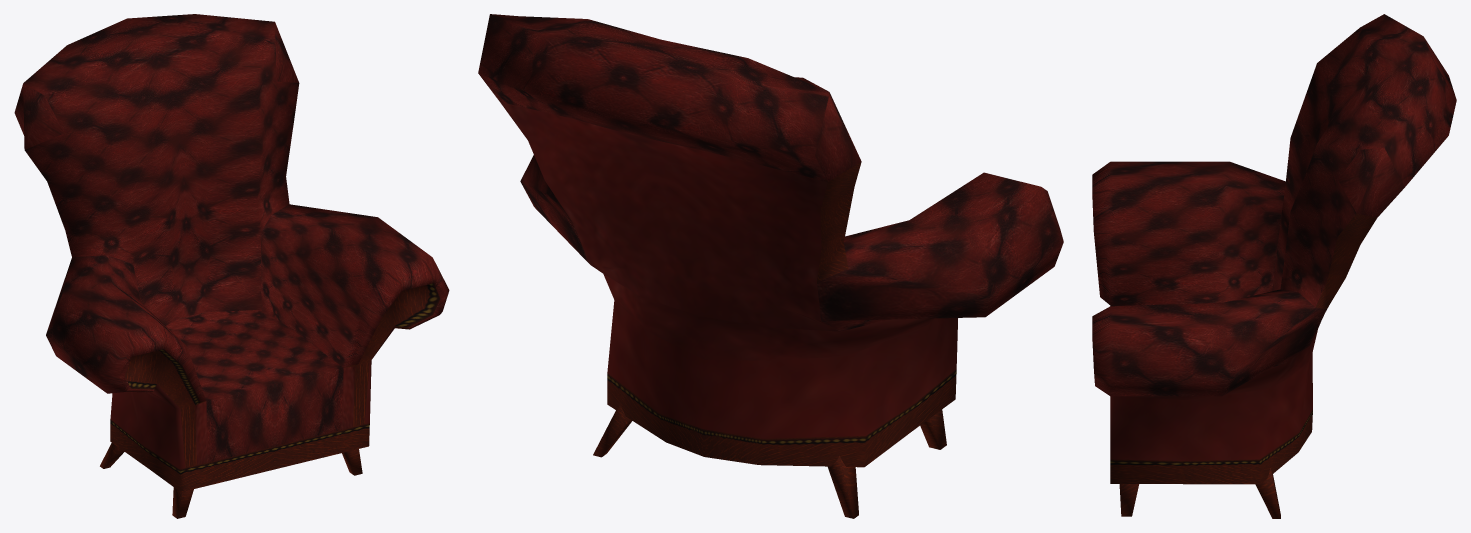
Rendered from ChamberhighChair_Upolstered.fbx.
The picture shows the model from 3 angles, left to right: view 1: azimuth 30°, elevation 25°; view 2: azimuth 150°, elevation 25°; view 3: azimuth 270°, elevation 25°; orthographic projection. The views are drawn at different scales.
Visible parts, largest first — view 1: ChamberHighChair_LOD0; view 2: ChamberHighChair_LOD0; view 3: ChamberHighChair_LOD0.
Part boxes in pixels (left/top/right/bottom): ChamberHighChair_LOD0: left=14, top=14, right=449, bottom=518; ChamberHighChair_LOD0: left=478, top=14, right=1063, bottom=518; ChamberHighChair_LOD0: left=1092, top=14, right=1456, bottom=518.
Size of what is drawn, in the model's own units: 317 by 324 by 263.
